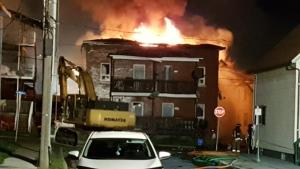fire: (132, 18, 182, 47)
smoke: (83, 0, 182, 22), (183, 16, 233, 44), (98, 22, 132, 38), (75, 30, 96, 46)
